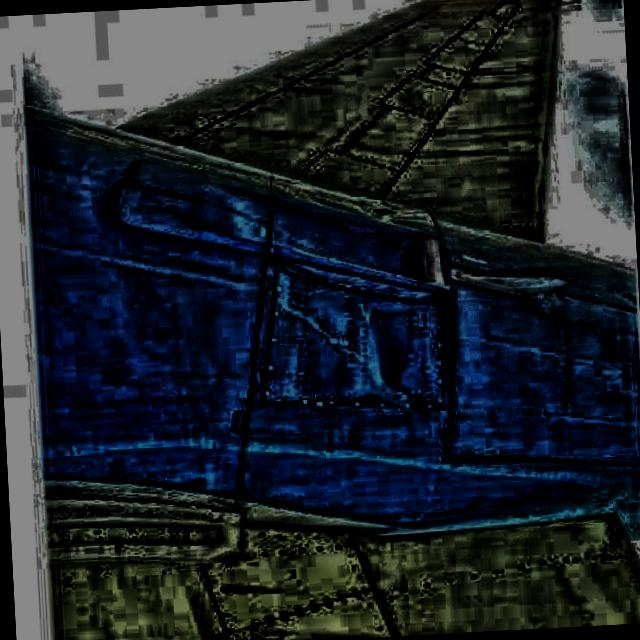dent: (336, 284, 416, 388)
